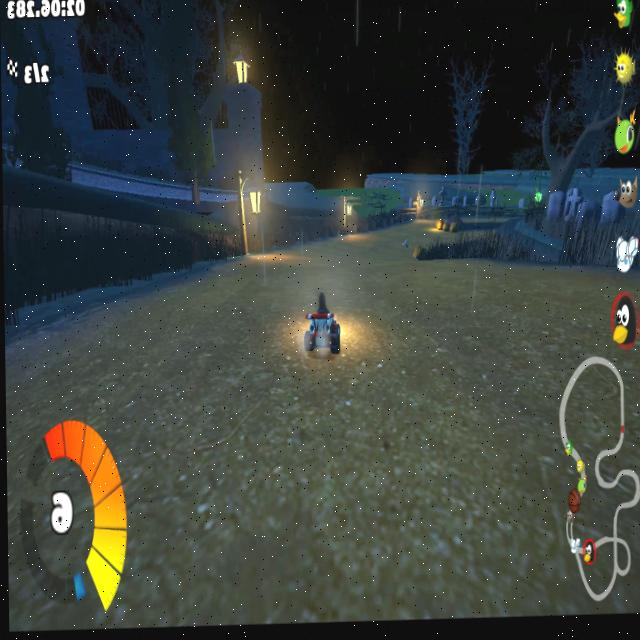player_kart: (304, 293, 341, 368)
track: (335, 275, 640, 630), (6, 370, 337, 630), (8, 302, 231, 379), (231, 247, 304, 369), (348, 222, 435, 261), (340, 262, 458, 287), (304, 235, 349, 291), (437, 231, 483, 239)
